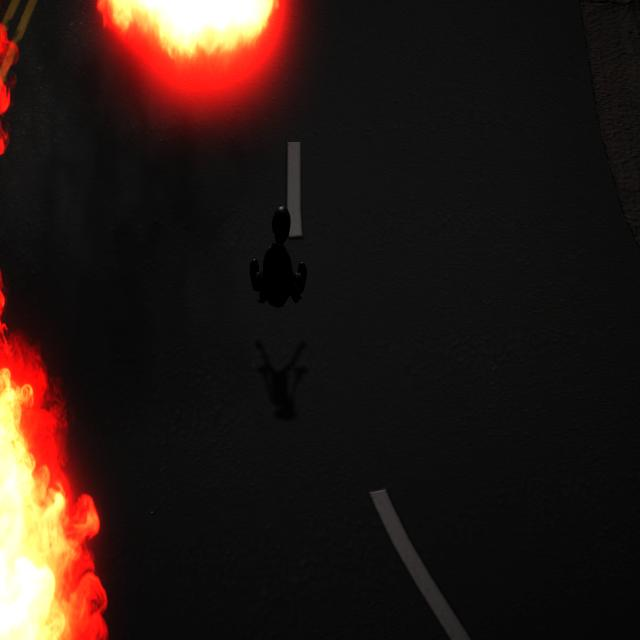Human: (245, 200, 310, 314)
